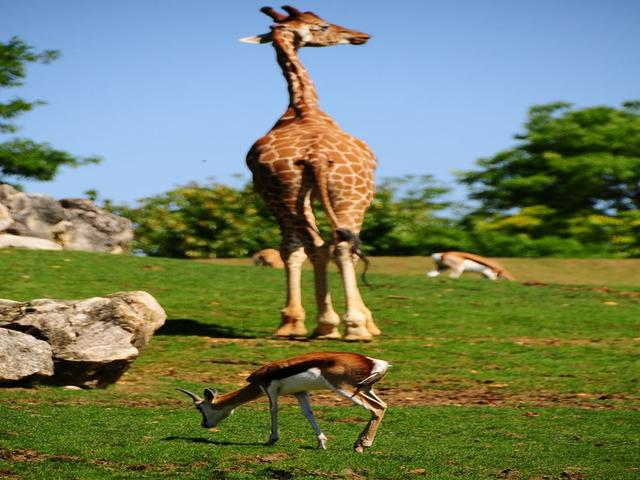giraffe: (204, 8, 428, 359)
